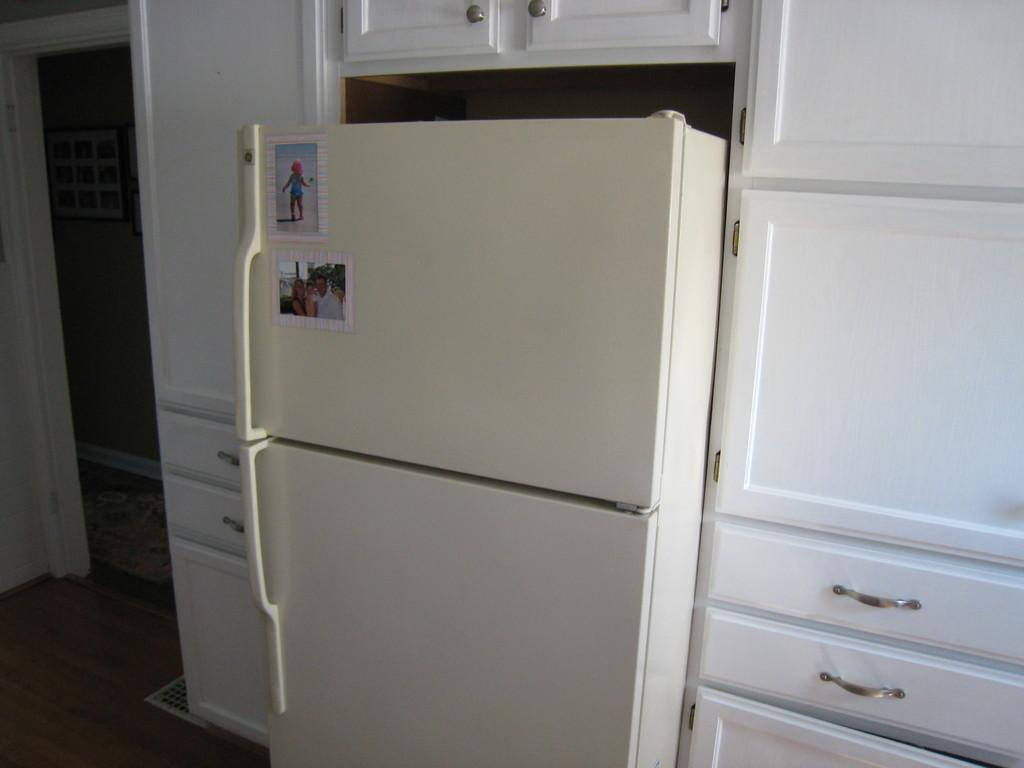cabinet_door: (738, 201, 1024, 536), (749, 19, 1024, 189), (718, 618, 1024, 737), (718, 534, 1024, 652), (702, 705, 924, 768), (502, 2, 714, 50), (350, 10, 494, 56), (169, 486, 249, 550), (161, 416, 235, 478)
handle: (226, 439, 280, 616), (226, 246, 268, 440), (816, 664, 914, 712), (831, 575, 925, 614), (214, 502, 244, 542), (210, 446, 240, 468), (456, 5, 487, 26), (520, 2, 551, 16)
